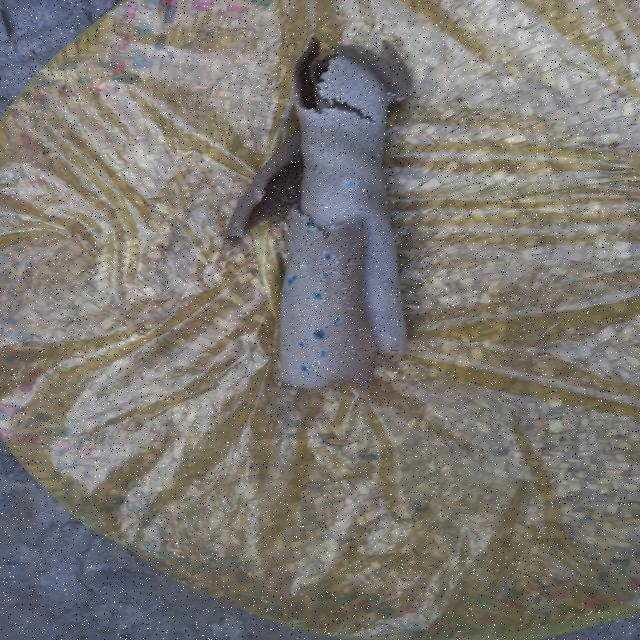injera_mold: (342, 177, 363, 191), (310, 290, 326, 303), (311, 328, 328, 340), (319, 250, 333, 261), (287, 274, 298, 286), (329, 315, 344, 323), (319, 348, 329, 360), (384, 90, 396, 99), (306, 220, 316, 229), (299, 364, 310, 372), (320, 272, 329, 280), (332, 223, 341, 231), (297, 340, 305, 348), (354, 220, 362, 228), (343, 348, 355, 352), (345, 284, 357, 288), (346, 306, 354, 311), (335, 258, 340, 265), (355, 328, 365, 331), (300, 264, 305, 270), (234, 222, 240, 226)
